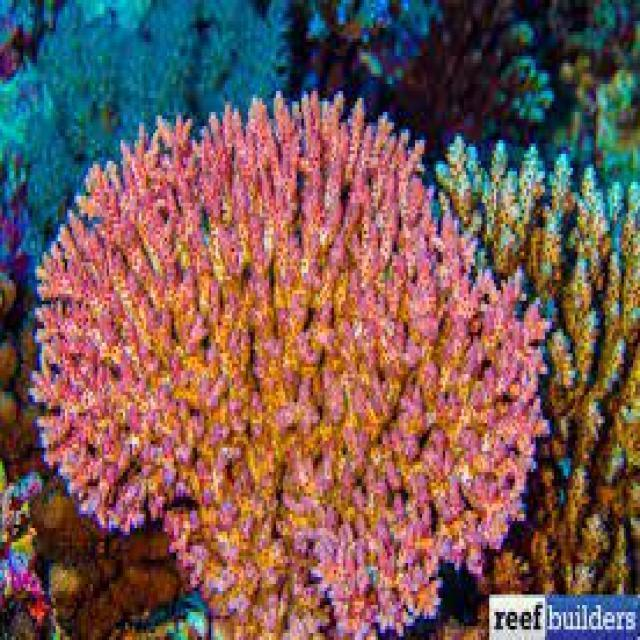Healthy Coral: (29, 84, 546, 571)
